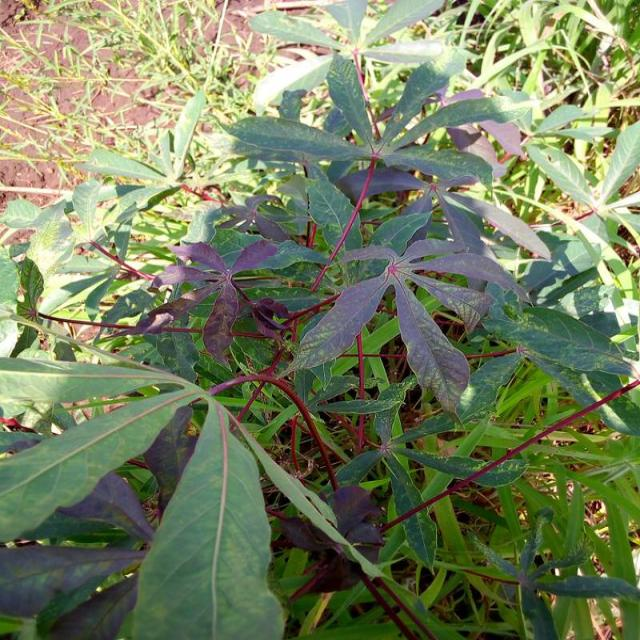cassava leaf: (0, 2, 638, 637), (122, 395, 286, 638)
